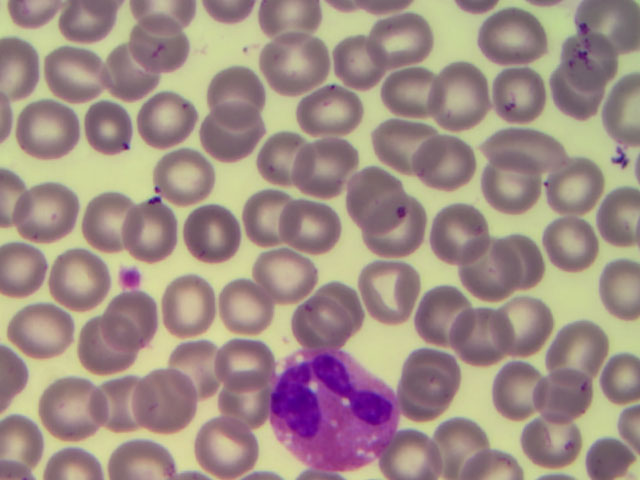Platelets: (116, 266, 143, 291)
RBC: (101, 418, 166, 480), (390, 418, 455, 480), (430, 418, 495, 480), (575, 418, 640, 480), (42, 45, 107, 106), (86, 42, 151, 103), (141, 15, 206, 76), (137, 83, 202, 144), (80, 97, 145, 158), (27, 101, 92, 162), (16, 188, 81, 249), (63, 191, 128, 252), (112, 198, 177, 259), (33, 258, 98, 319), (20, 307, 85, 368), (66, 311, 131, 372), (102, 289, 167, 350), (154, 277, 219, 338), (180, 196, 245, 257), (154, 146, 219, 207), (194, 106, 259, 167), (202, 61, 267, 122), (258, 31, 323, 92), (335, 30, 400, 91), (364, 13, 429, 74), (382, 54, 447, 115), (290, 83, 355, 144), (301, 143, 366, 204), (259, 130, 324, 191), (235, 186, 300, 247), (276, 204, 341, 265), (251, 245, 316, 306), (218, 275, 283, 336), (213, 334, 278, 395), (213, 374, 278, 435), (191, 412, 256, 473), (134, 363, 199, 424), (156, 336, 221, 397), (96, 364, 161, 425), (52, 376, 117, 437), (391, 355, 456, 416), (403, 321, 468, 382), (407, 271, 472, 332), (353, 263, 418, 324), (305, 282, 370, 343), (296, 275, 361, 336), (363, 200, 428, 261), (346, 162, 411, 223), (371, 107, 436, 168), (404, 132, 469, 193), (426, 63, 491, 124), (491, 61, 556, 122), (480, 119, 545, 180), (465, 162, 530, 223), (539, 157, 604, 218), (544, 207, 609, 268), (498, 233, 563, 294), (459, 240, 524, 301), (456, 305, 521, 366), (493, 286, 558, 347), (484, 360, 549, 421), (538, 368, 603, 429), (548, 325, 613, 386), (525, 404, 590, 465), (269, 1, 334, 61), (434, 204, 489, 257), (550, 66, 604, 119), (548, 31, 602, 84), (485, 9, 539, 62), (593, 357, 640, 411), (593, 263, 640, 317), (593, 181, 640, 235), (593, 83, 640, 137)
WBC: (276, 349, 395, 472)
